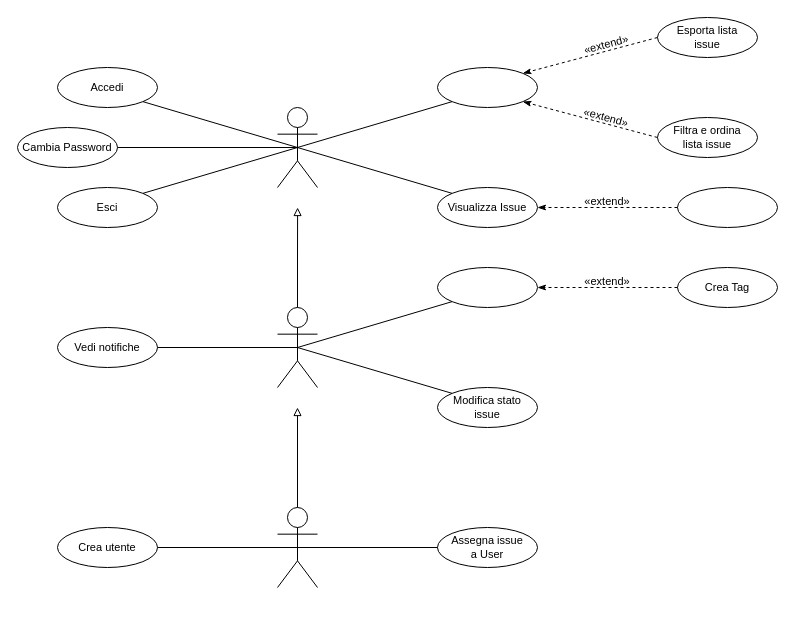
Some shapes in this 795 by 625 pixel diagram are drawn without their labels. The shapes that lost their labels are listed below. From the top down, each one's box as (x1, y1, x2, y2) in pixels, then its label:
(436, 66, 538, 108): Visualizza lista issue
(276, 106, 318, 188): Lurker
(676, 186, 778, 228): Visualizza cronologia Issue
(436, 266, 538, 308): Segnala Issue
(276, 306, 318, 388): User
(276, 506, 318, 588): Admin
